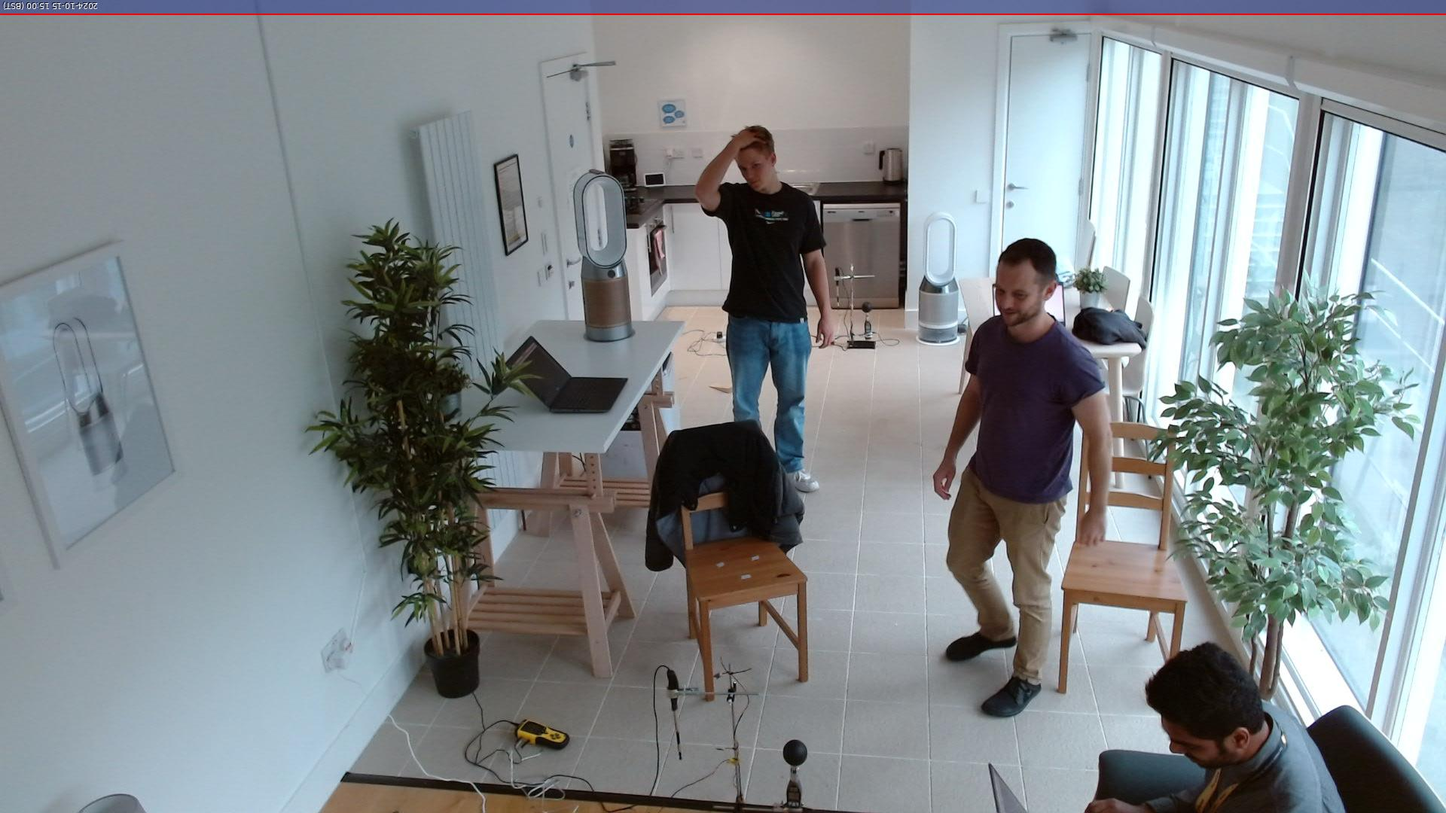long sleeve shirt: (1146, 697, 1347, 813)
short sleeve shirt: (962, 312, 1110, 502), (697, 177, 827, 323)
trousers: (946, 466, 1074, 675), (722, 311, 814, 475)
